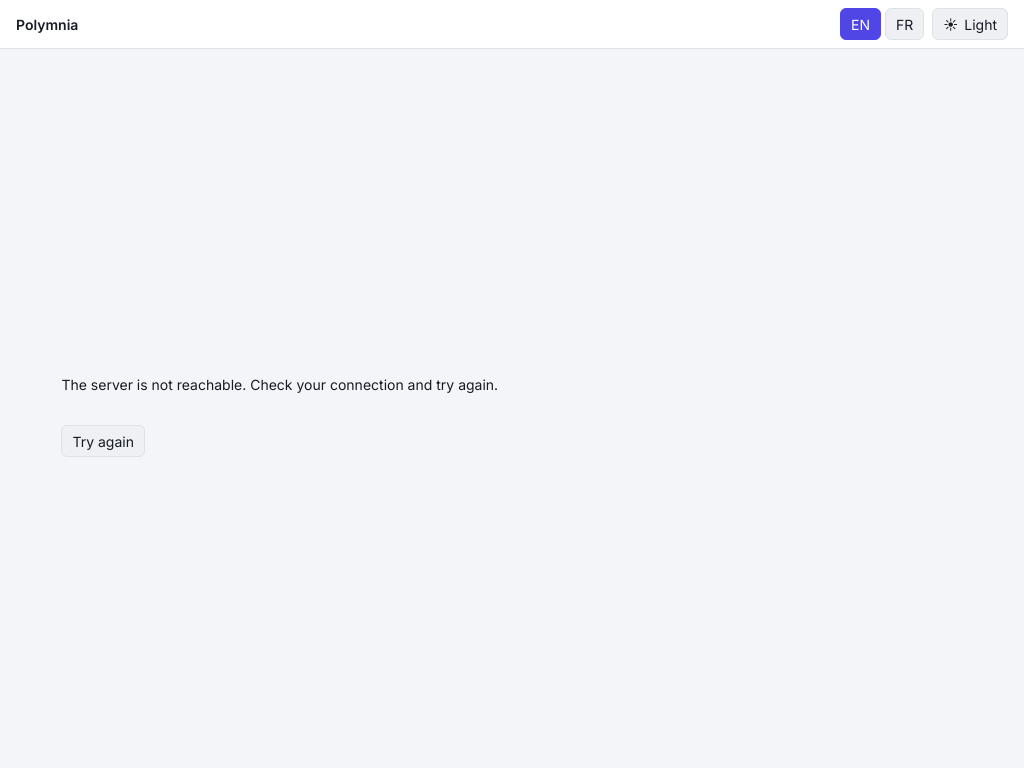
Test: session gate › offers a retry when the server cannot be reached
Expected: the message shows "not reachable", [61, 376, 498, 393]
Step 1. Click the button "Try again" → (103, 441), box [61, 425, 145, 457]
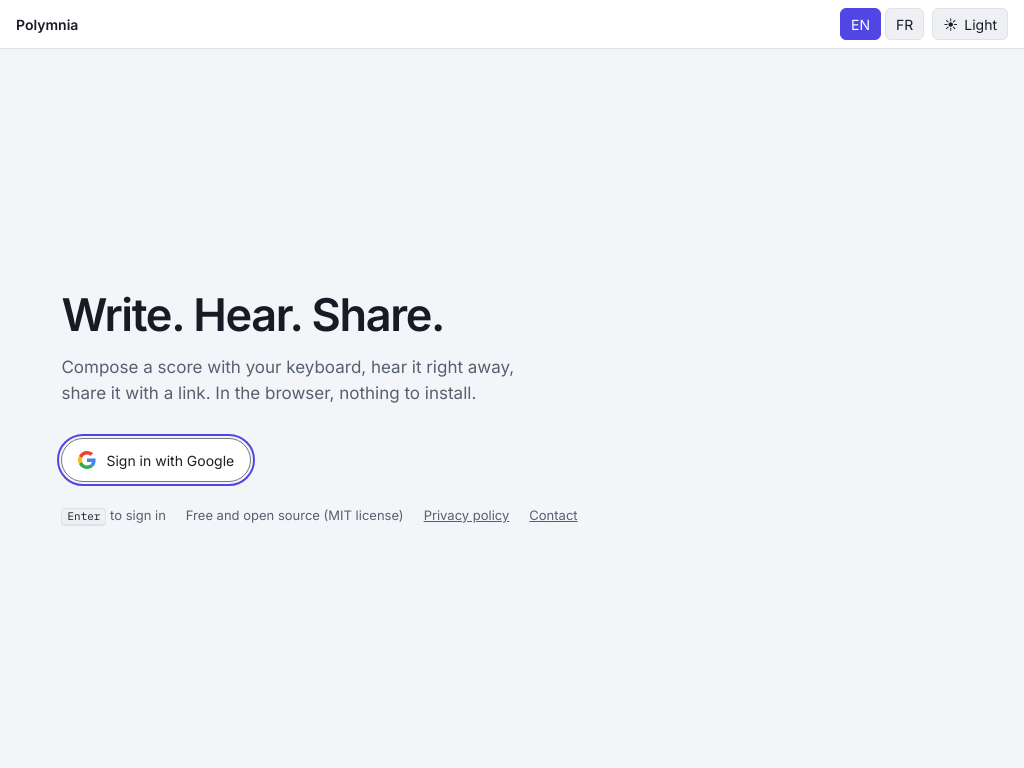
Now the link "Sign in with Google" is shown, box [61, 438, 251, 482]
